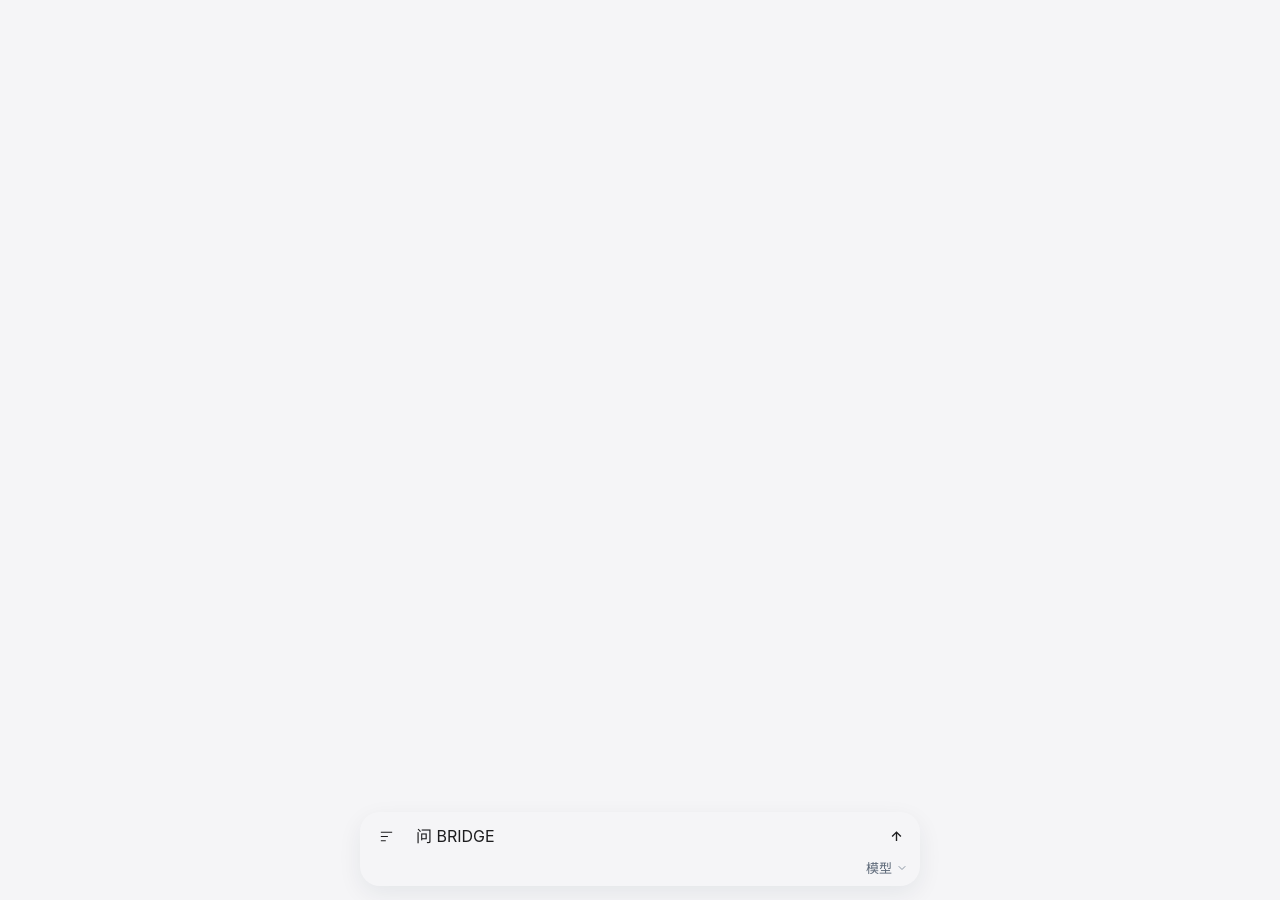
it: reconciles an accepted question after a lost response instead of inviting a duplicate send
The width and height of the screenshot is (1280, 900).
Type "Accepted question" into the field labelled "问 BRIDGE" at (641, 836), box [410,818,872,854]
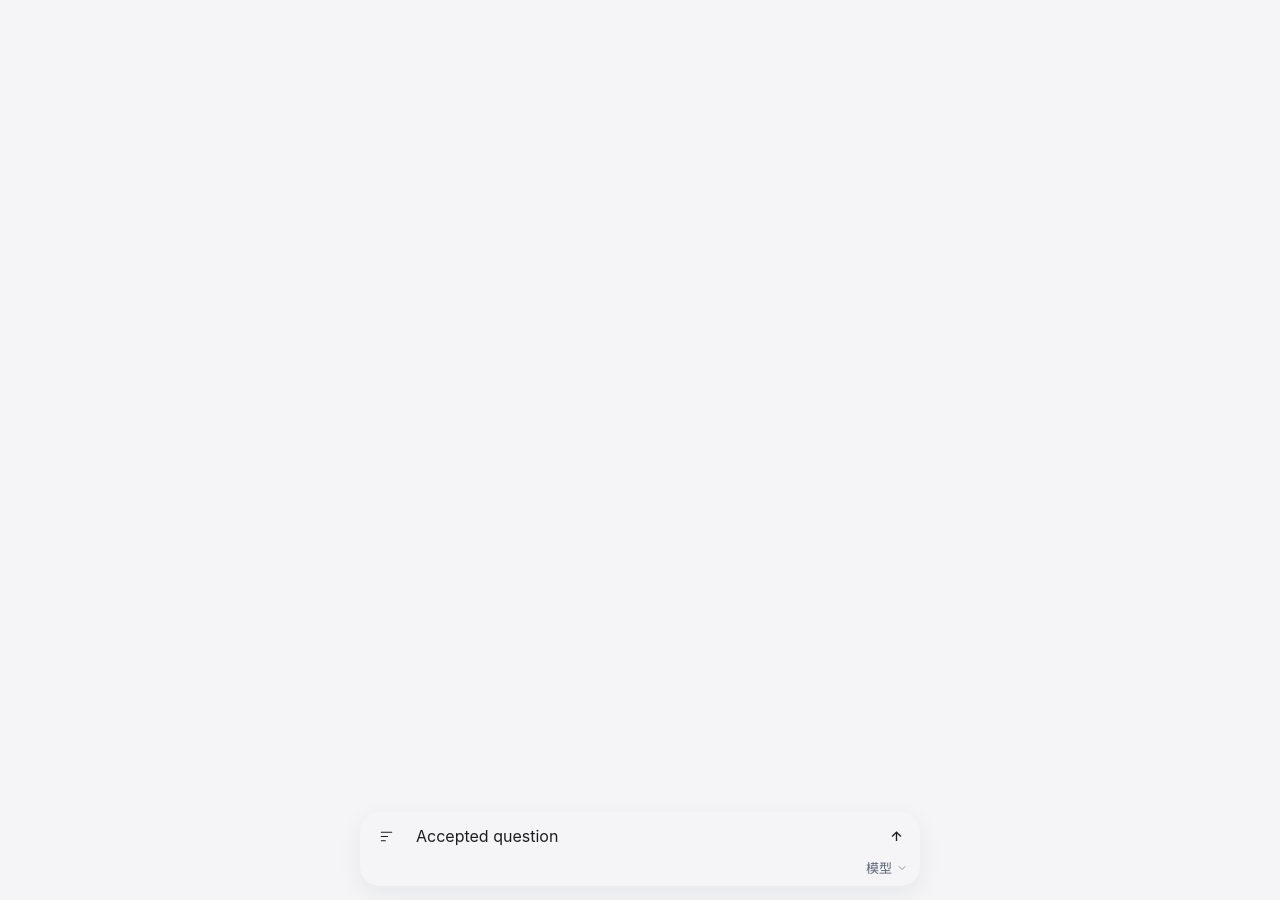
Click the button named "发送" at (896, 836), box [878,818,914,854]
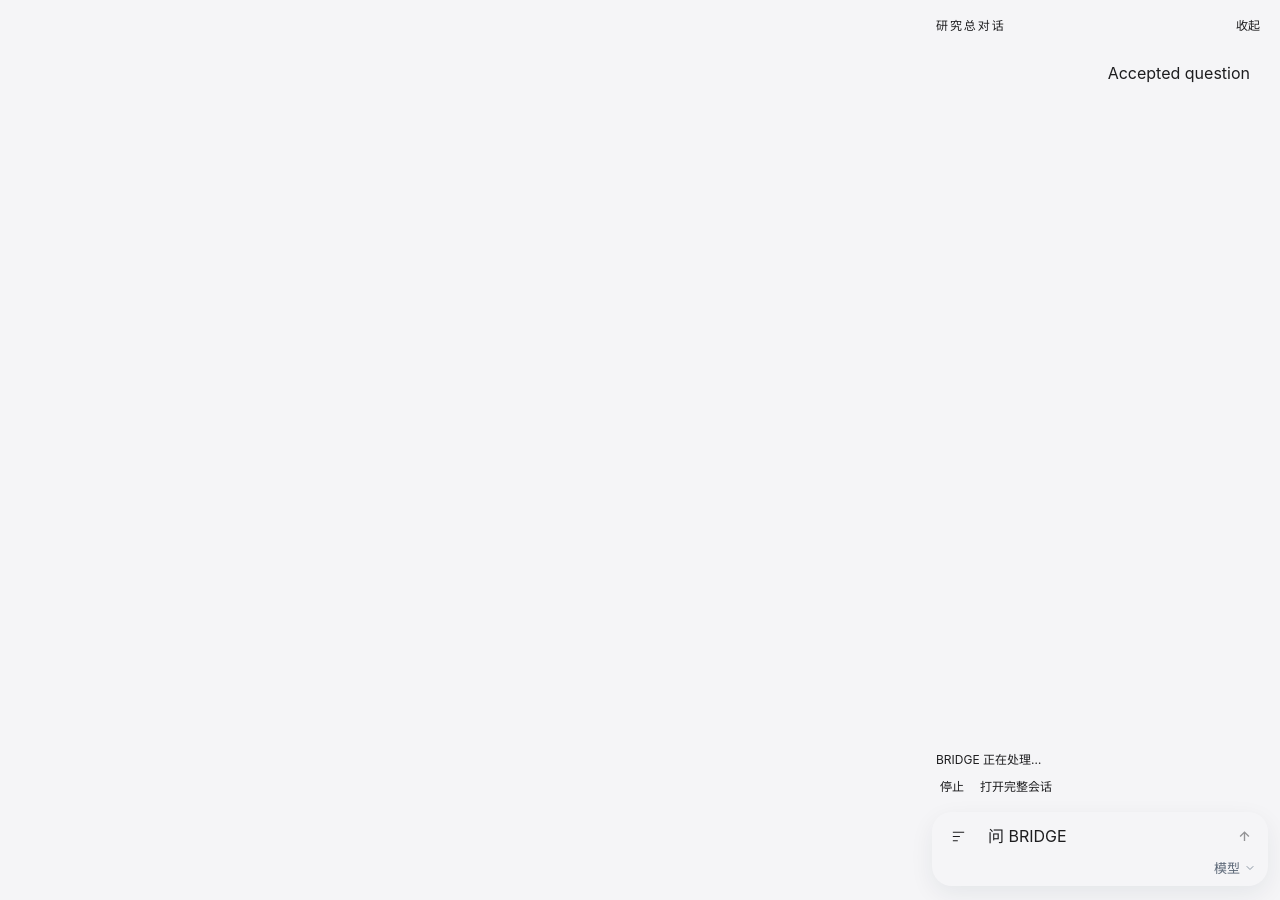
Expected: the field labelled "问 BRIDGE" is empty, [982,818,1220,854]
Expected: the field labelled "问 BRIDGE" is disabled, [982,818,1220,854]
Expected: the text "Accepted question" is shown, [1108,59,1250,87]
